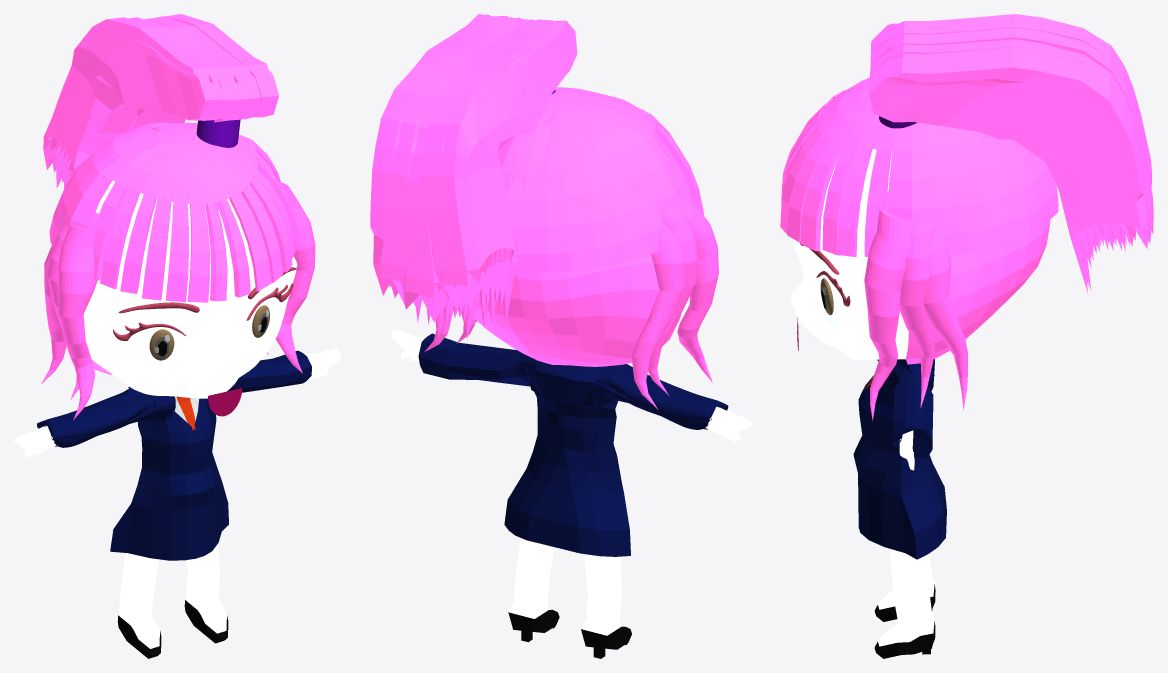
Rendered from hikari_humanのコピー_2.fbx.
3 renders of one model, left to right at view 1: azimuth 30°, elevation 25°; view 2: azimuth 150°, elevation 25°; view 3: azimuth 270°, elevation 25°, orthographic. The views are drawn at different scales.
Visible parts, largest first — view 1: kami.000, pony_tail.001, Face_honnmono.001, Plane, kami001, Cube.004, Cube.001, Cube.002, Cube, kami.002, kamidome, kami_yoko (+4 smaller); view 2: pony_tail.001, kami.000, Plane, Sphere, Cube.004, Cube, kami.002, Cube.001, kami001, Cube.002, kami_yoko; view 3: pony_tail.001, kami.000, Plane, Face_honnmono.001, Sphere, kami001, Cube.002, kami_yoko, Cube, kami.002, Cube.001.
Boxes of the visible parts, bbox=[...] form: kami.000: bbox=[49, 122, 300, 302]; pony_tail.001: bbox=[43, 14, 278, 188]; Face_honnmono.001: bbox=[83, 180, 297, 398]; Plane: bbox=[110, 387, 228, 560]; kami001: bbox=[58, 182, 315, 420]; Cube.004: bbox=[14, 389, 175, 458]; Cube.001: bbox=[117, 553, 161, 658]; Cube.002: bbox=[184, 544, 228, 643]; Cube: bbox=[227, 347, 341, 392]; kami.002: bbox=[41, 236, 66, 383]; kamidome: bbox=[196, 119, 240, 147]; kami_yoko: bbox=[46, 173, 268, 400]; pony_tail.001: bbox=[370, 14, 577, 338]; kami.000: bbox=[505, 87, 703, 273]; Plane: bbox=[504, 362, 630, 556]; Sphere: bbox=[473, 121, 681, 366]; Cube.004: bbox=[592, 364, 751, 442]; Cube: bbox=[391, 330, 548, 386]; kami.002: bbox=[424, 223, 685, 409]; Cube.001: bbox=[581, 554, 631, 658]; kami001: bbox=[475, 181, 718, 382]; Cube.002: bbox=[508, 538, 559, 642]; kami_yoko: bbox=[457, 207, 697, 395]; pony_tail.001: bbox=[869, 14, 1153, 292]; kami.000: bbox=[780, 77, 1058, 256]; Plane: bbox=[853, 359, 946, 559]; Face_honnmono.001: bbox=[790, 149, 908, 359]; Sphere: bbox=[906, 139, 1050, 364]; kami001: bbox=[864, 195, 914, 420]; Cube.002: bbox=[874, 548, 935, 658]; kami_yoko: bbox=[887, 191, 936, 407]; Cube: bbox=[893, 363, 934, 470]; kami.002: bbox=[923, 228, 967, 410]; Cube.001: bbox=[874, 554, 935, 621].
Size of the model in its own units: 506 by 855 by 458.
